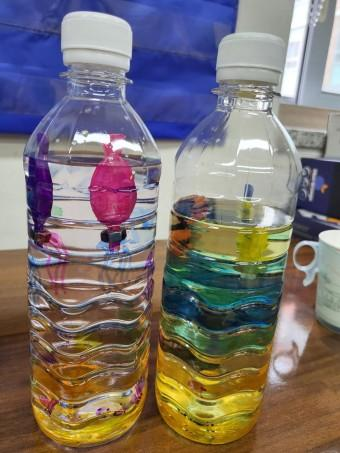plastic_bottle: (8, 10, 156, 445), (163, 30, 296, 442)
